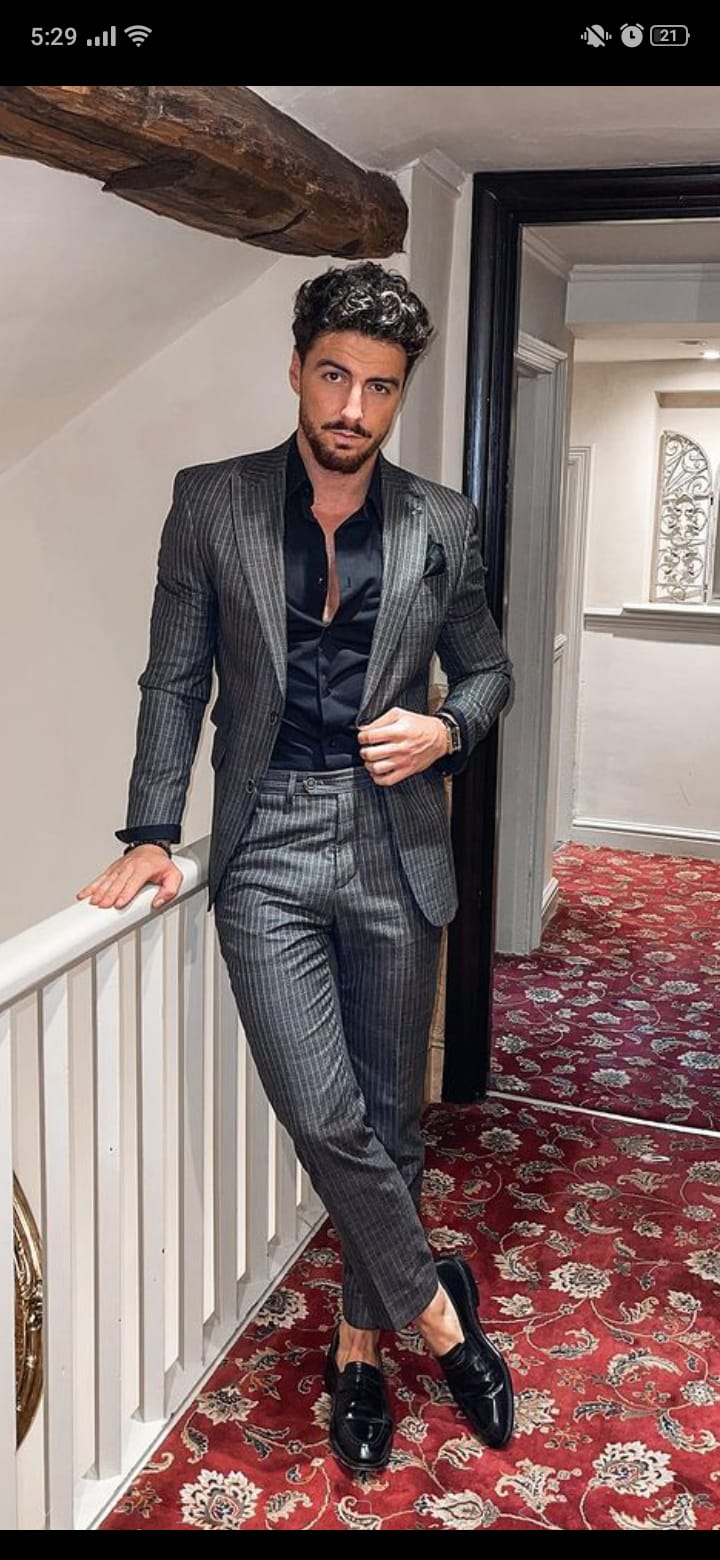NoMask: (301, 350, 399, 475)
